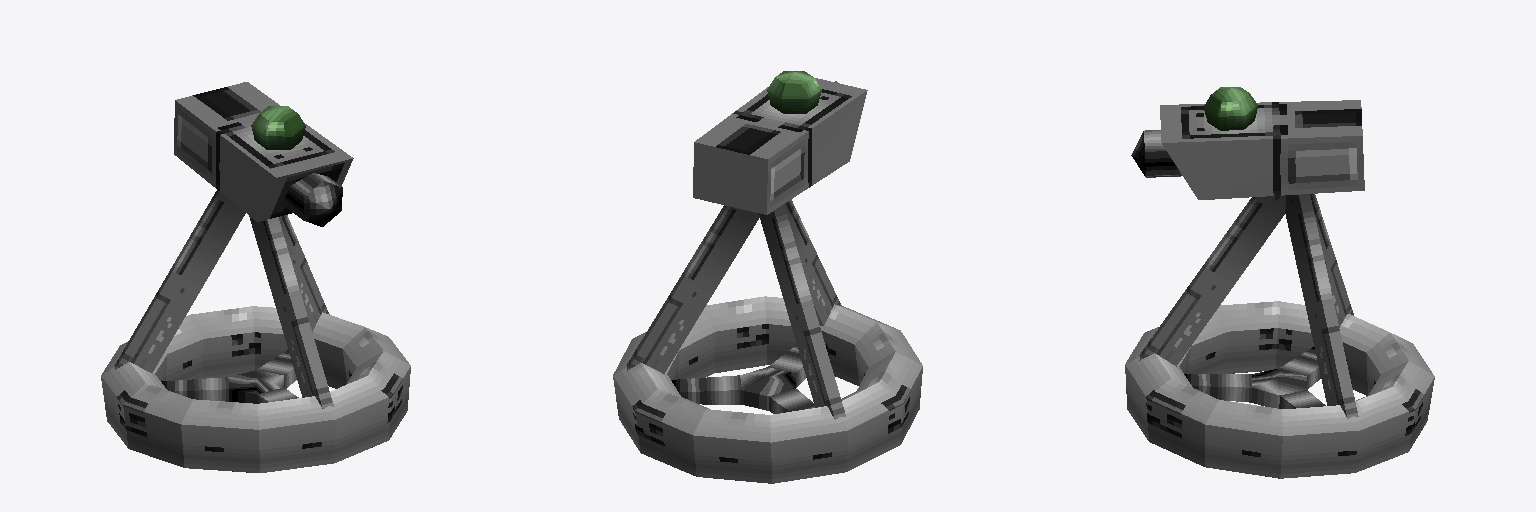
The picture shows the model from 3 angles: view 1: azimuth 30°, elevation 25°; view 2: azimuth 150°, elevation 25°; view 3: azimuth 270°, elevation 25°; orthographic projection.
Visible parts, largest first — view 1: Drone_Mesh.003; view 2: Drone_Mesh.003; view 3: Drone_Mesh.003.
Part boxes in pixels (x1,y1,x2,y2): Drone_Mesh.003: (101, 82, 410, 472); Drone_Mesh.003: (613, 71, 922, 483); Drone_Mesh.003: (1125, 87, 1434, 478).
Size of the model in its own units: 0.1624 by 0.192 by 0.1621.
Materials: 1 (1 with a texture image).